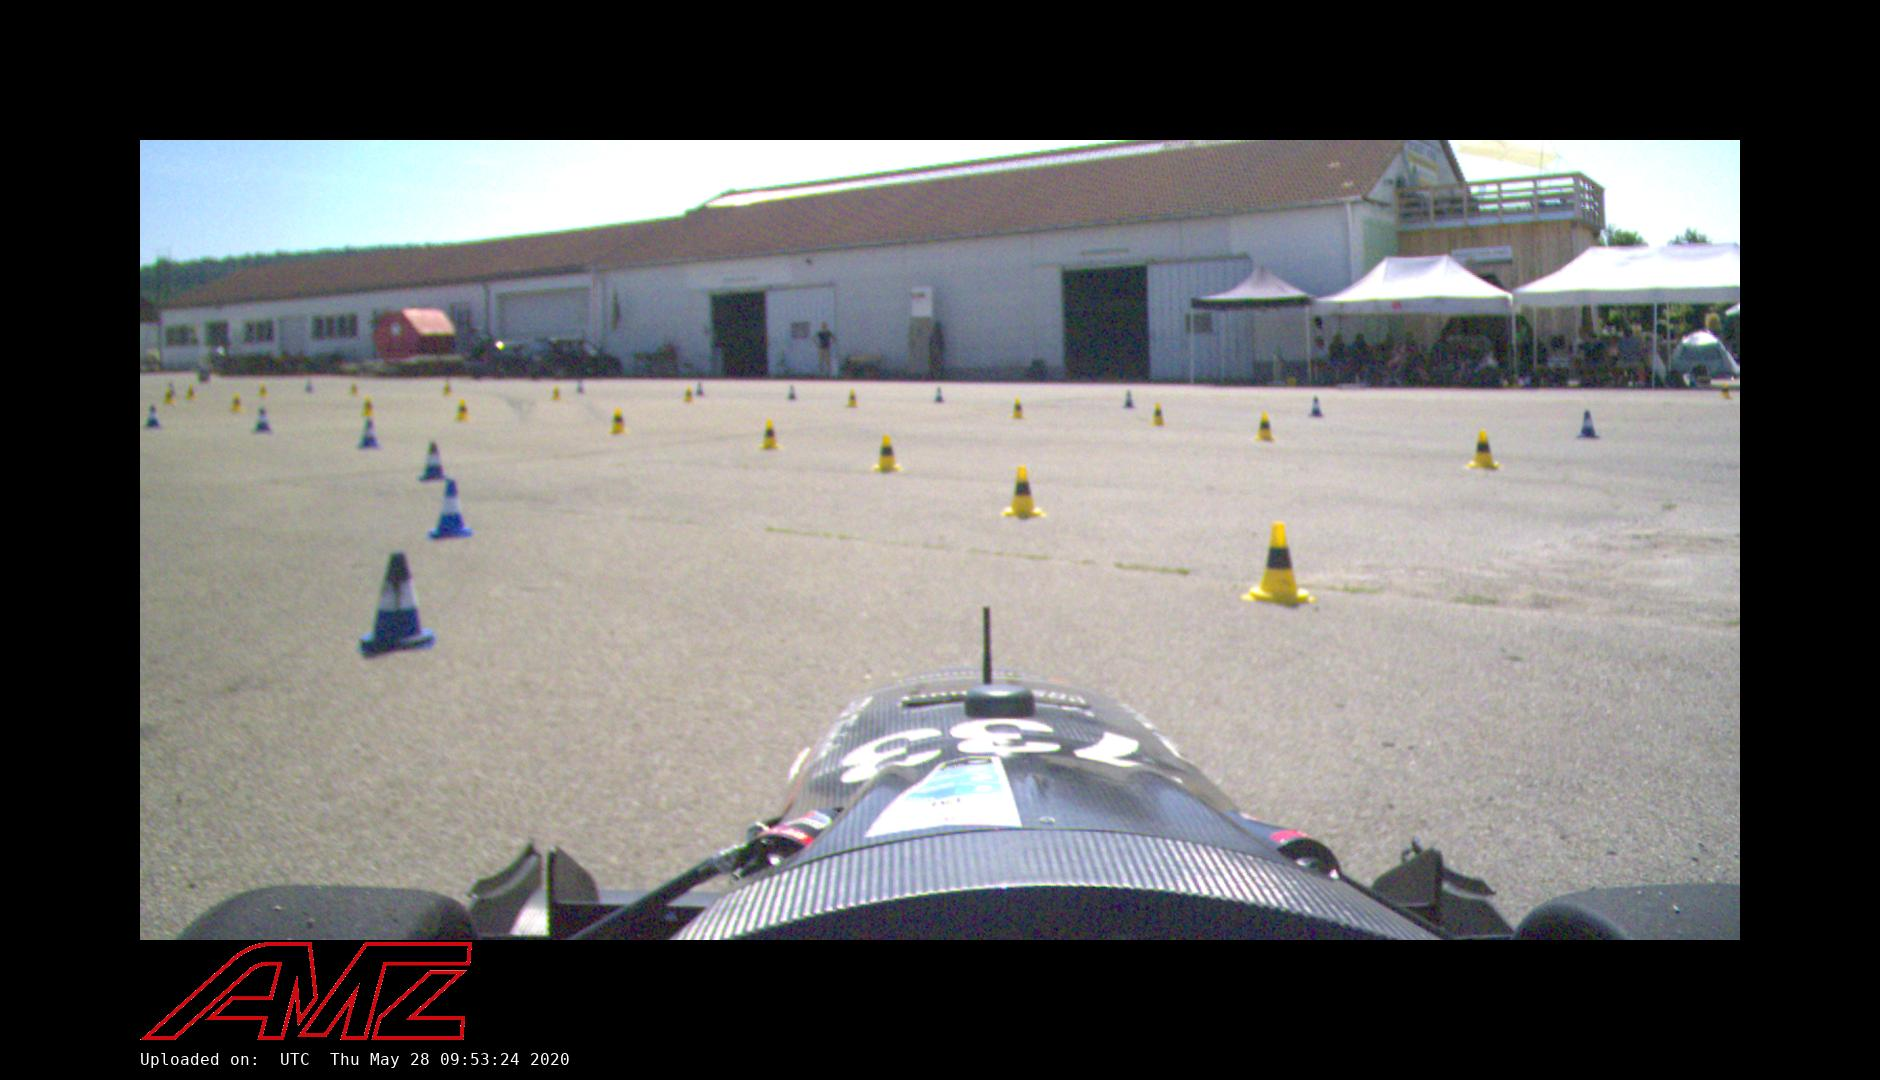blue_cone: (360, 559, 427, 649), (425, 477, 471, 536), (418, 441, 445, 481), (1574, 404, 1602, 438), (355, 419, 381, 450), (250, 400, 272, 431), (141, 404, 161, 429), (1307, 394, 1325, 419), (1122, 389, 1139, 410), (931, 384, 945, 404), (786, 384, 799, 400), (693, 381, 705, 397), (575, 379, 585, 395), (303, 379, 315, 393)
yellow_cone: (1240, 523, 1316, 610), (1003, 462, 1047, 519), (1466, 426, 1500, 469), (872, 431, 903, 473), (1252, 410, 1278, 441), (759, 420, 782, 451), (607, 407, 628, 435), (1008, 394, 1027, 421), (1148, 402, 1169, 425), (452, 397, 470, 422), (359, 397, 374, 417), (229, 391, 243, 413), (843, 388, 859, 406), (549, 382, 563, 400), (164, 385, 174, 403), (185, 386, 196, 400), (684, 388, 693, 403), (257, 384, 267, 397)
